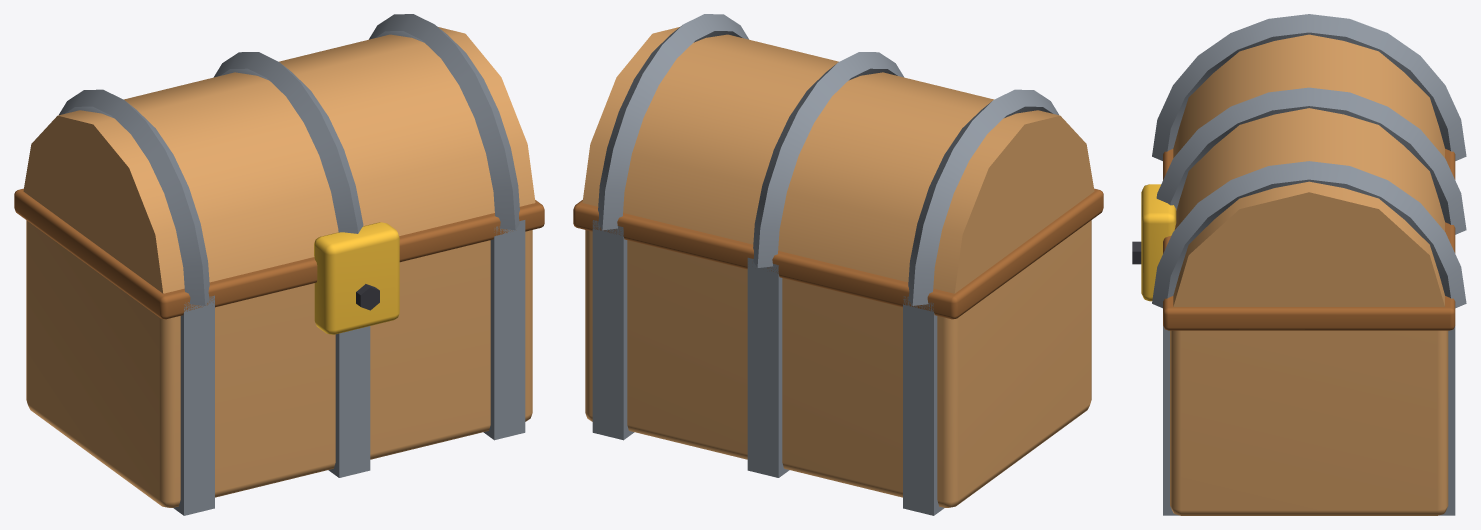
The model's file is WoodChest.fbx.
3 views of the same model, side by side, from view 1: azimuth 30°, elevation 25°; view 2: azimuth 150°, elevation 25°; view 3: azimuth 270°, elevation 25° (orthographic). The views are drawn at different scales.
Parts seen in each view (by area): view 1: WoodChest; view 2: WoodChest; view 3: WoodChest.
Part boxes in pixels (x1=…): WoodChest: x1=14, y1=14, x2=544, y2=515; WoodChest: x1=573, y1=14, x2=1103, y2=515; WoodChest: x1=1132, y1=14, x2=1466, y2=515.
Bounding box in the file's own units: 3.1 × 2.75 × 2.4.
Materials: 1 (1 with a texture image).
